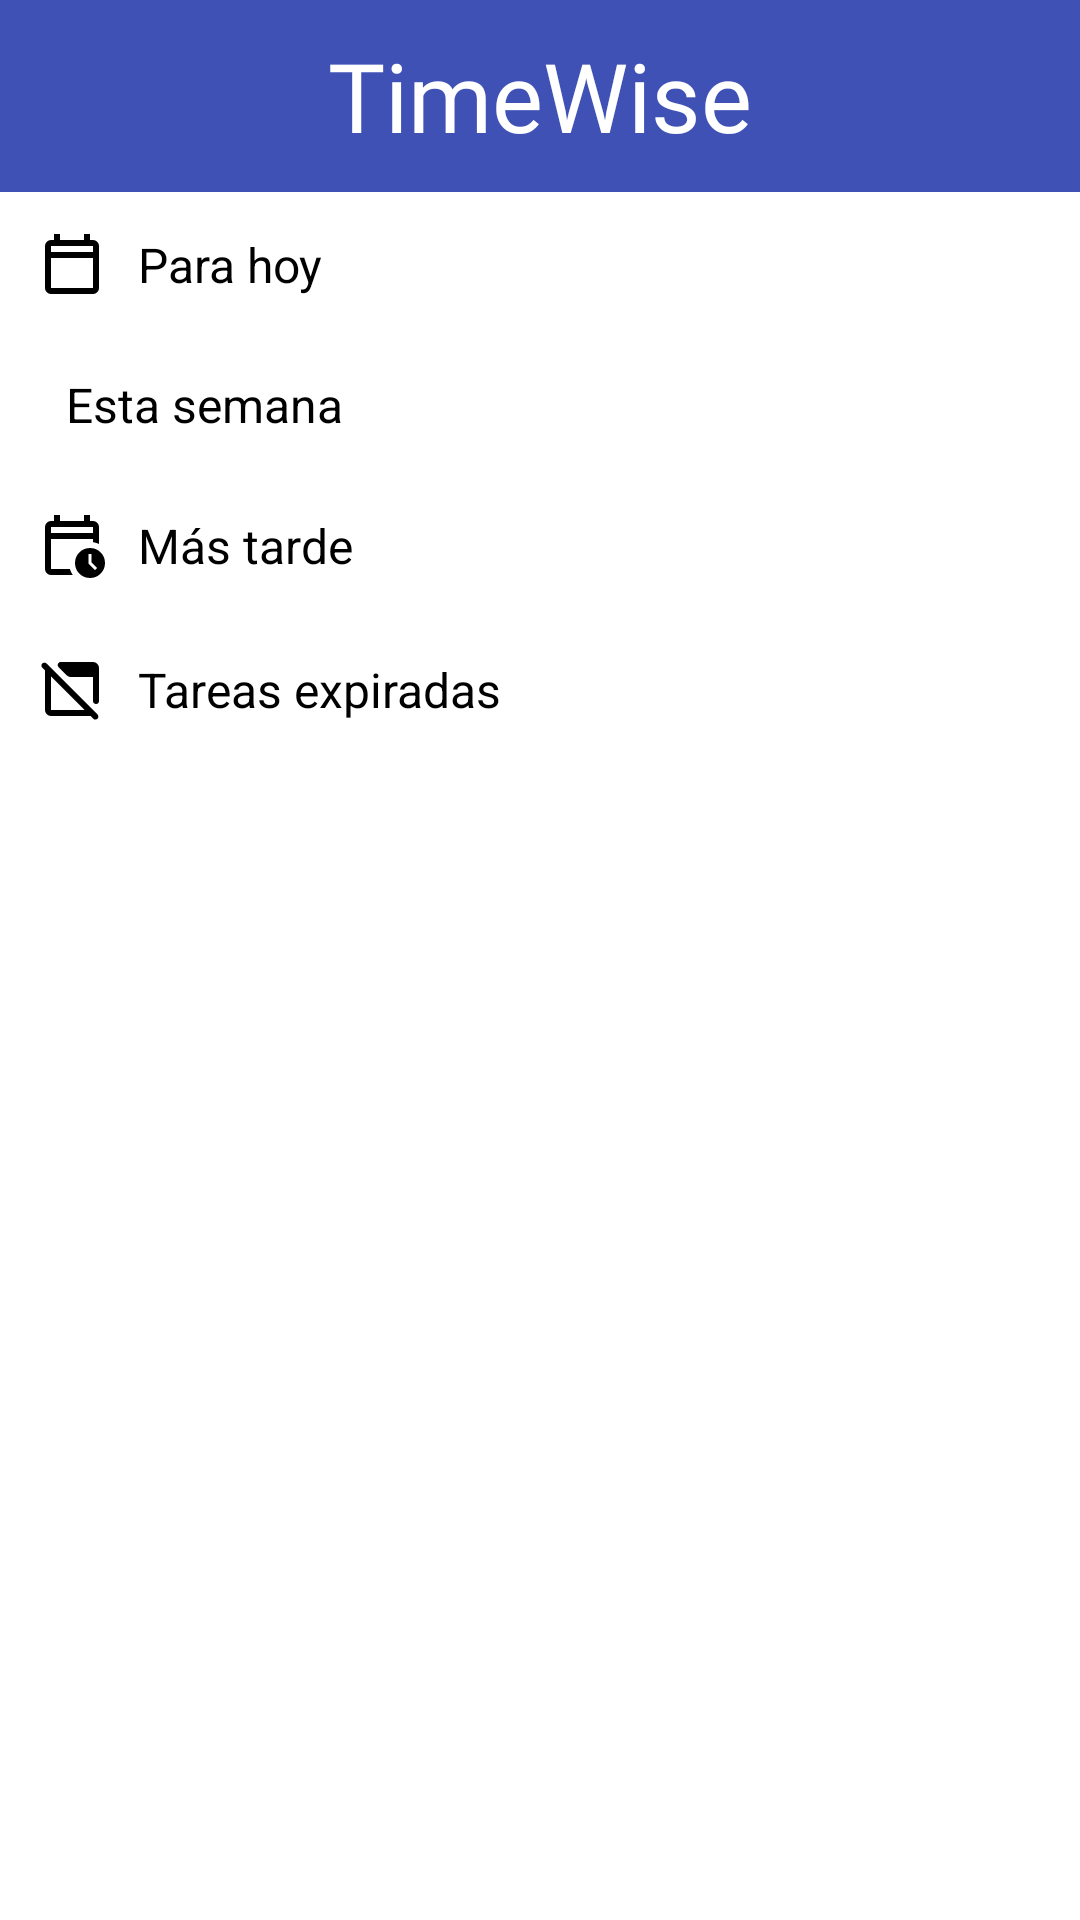

Where to tap for icons on this 1080w x 1920h app screen, as [x,y]:
Expired: [70,691]
Later: [75,546]
Today: [72,264]
